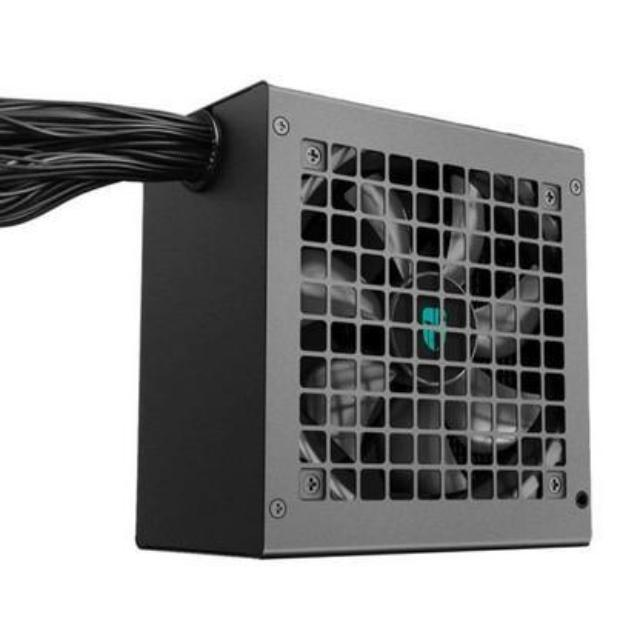PSU: (113, 62, 605, 564)
